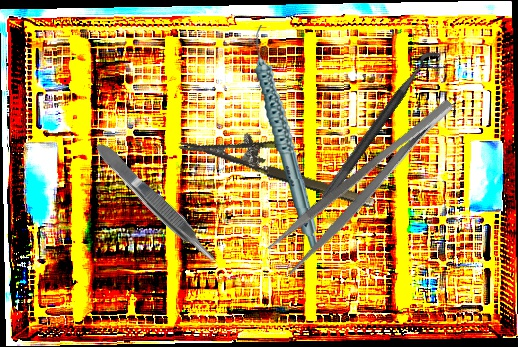Dressing Forceps: (264, 94, 471, 277)
Fixation Ring: (319, 45, 451, 213)
Handpiece: (252, 23, 319, 250)
Needle Holder: (177, 110, 384, 211)
Tissue Forceps: (90, 135, 225, 274)
